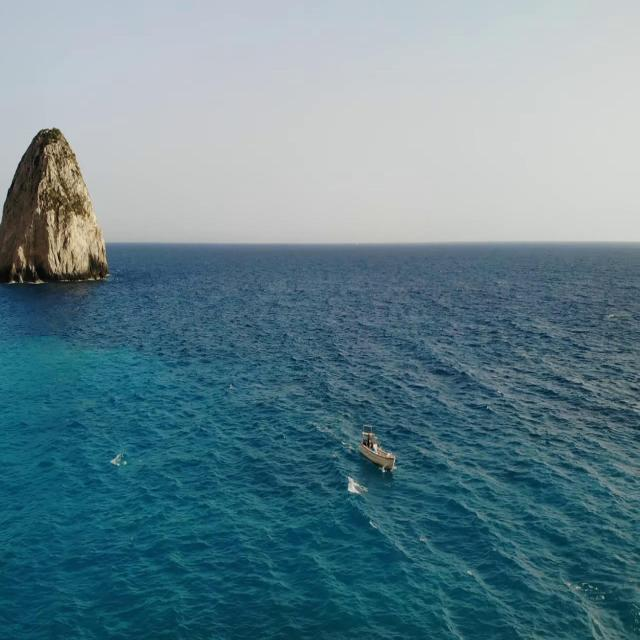boat: (357, 422, 393, 474)
